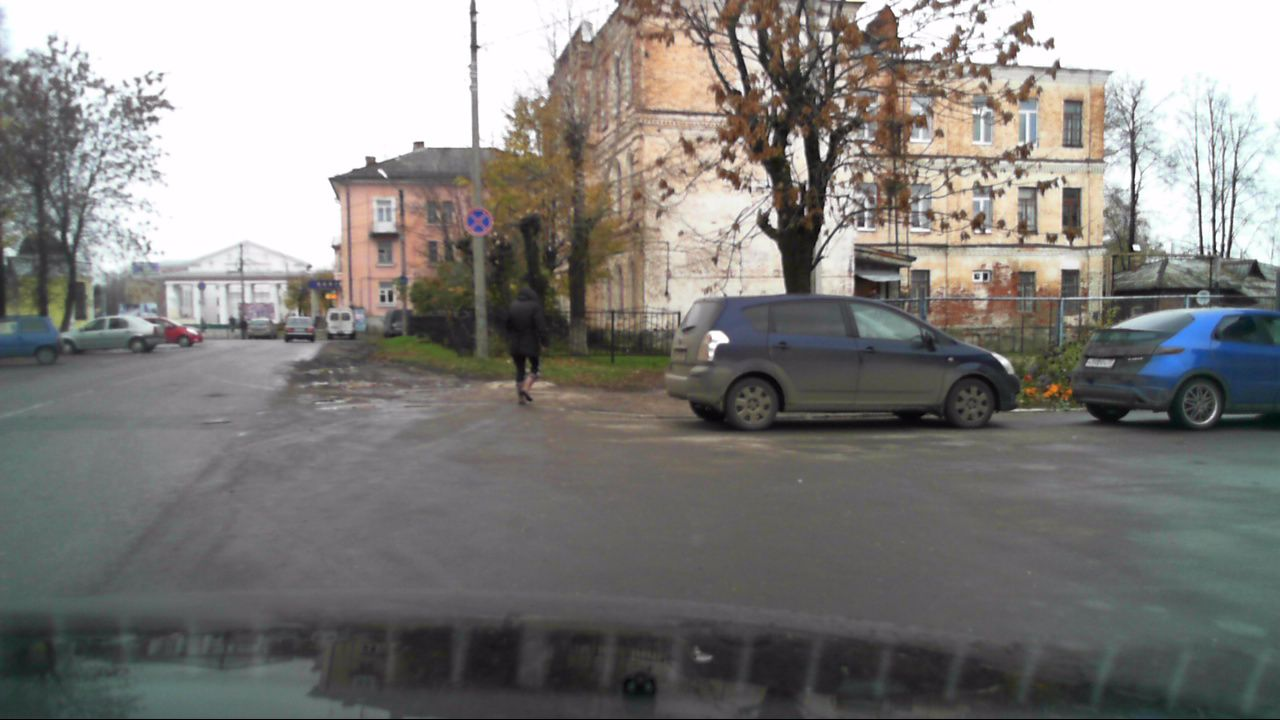No Parking: (462, 206, 492, 236)
